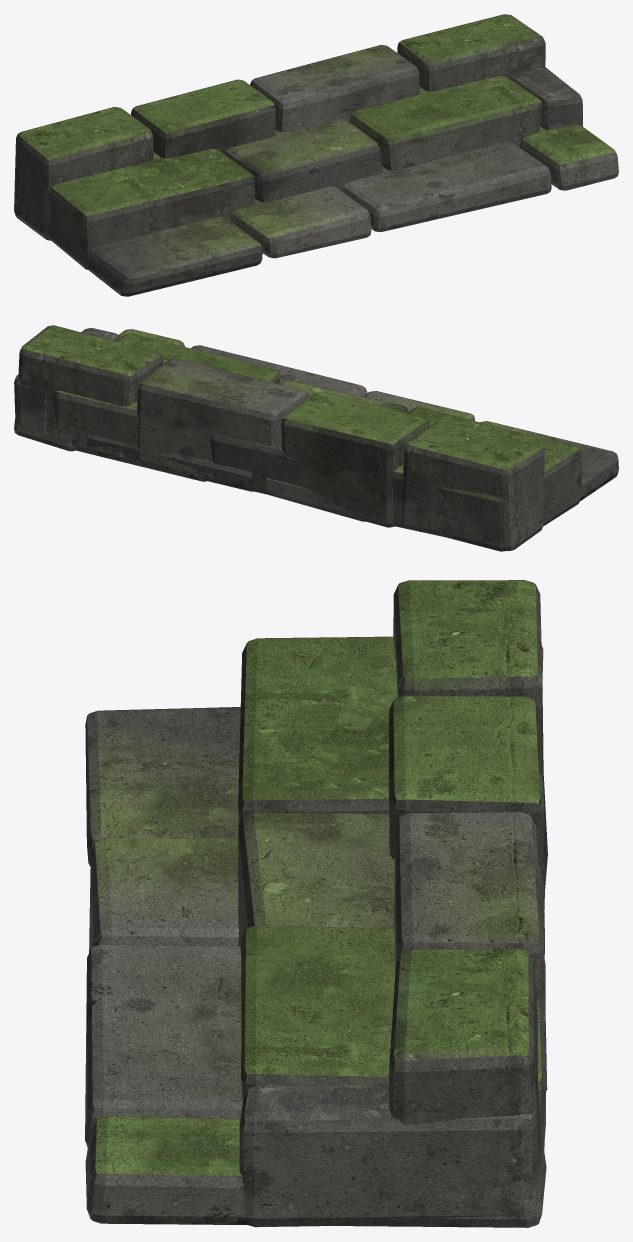
The model's file is ER_Marches_Ruine_3m.gltf.
3 renders of one model, top to bottom at view 1: azimuth 30°, elevation 25°; view 2: azimuth 150°, elevation 25°; view 3: azimuth 270°, elevation 25°, orthographic. The views are drawn at different scales.
Parts seen in each view (by area): view 1: ER_Marches_Ruine_3m_PM.001, ER_Marches_Ruine_3m_P.001; view 2: ER_Marches_Ruine_3m_PM.001, ER_Marches_Ruine_3m_P.001; view 3: ER_Marches_Ruine_3m_P.001, ER_Marches_Ruine_3m_PM.001.
Boxes of the visible parts, <box> form: ER_Marches_Ruine_3m_PM.001: <box>14,14,618,269</box>; ER_Marches_Ruine_3m_P.001: <box>47,45,582,296</box>; ER_Marches_Ruine_3m_PM.001: <box>14,325,581,550</box>; ER_Marches_Ruine_3m_P.001: <box>14,328,618,551</box>; ER_Marches_Ruine_3m_P.001: <box>85,707,547,1227</box>; ER_Marches_Ruine_3m_PM.001: <box>85,580,547,1227</box>.
Bounding box in the file's own units: 3.01 × 0.5252 × 1.21.
2 materials, 2 textured.
